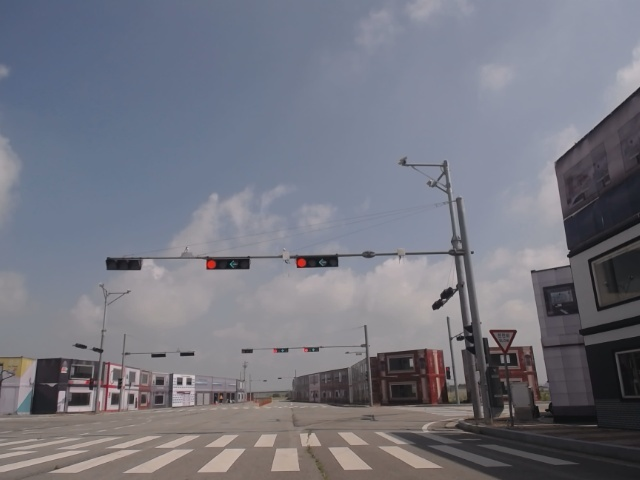left_green_4: (206, 258, 250, 270), (295, 256, 338, 268)
